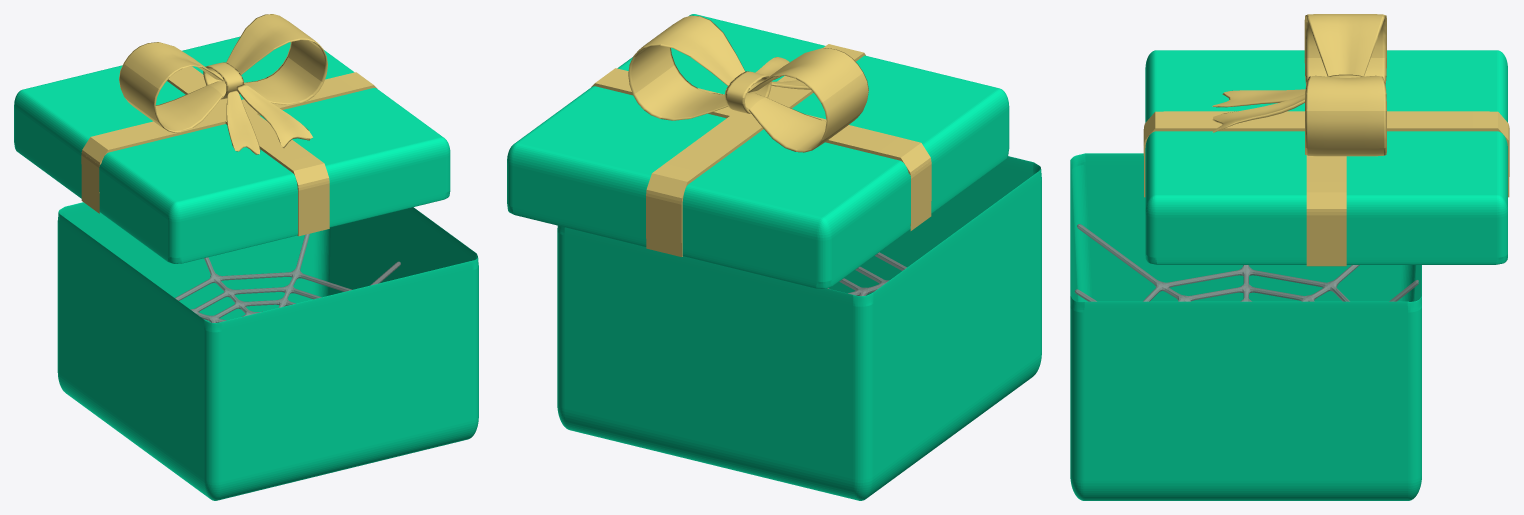
3 views of the same model, side by side, from view 1: azimuth 30°, elevation 25°; view 2: azimuth 150°, elevation 25°; view 3: azimuth 270°, elevation 25° (orthographic). The views are drawn at different scales.
Visible parts, largest first — view 1: box2, boxTop, bowTop, Plane, Plane001, spiderweb; view 2: box2, boxTop, bowTop, Plane, Plane001, spiderweb; view 3: box2, boxTop, bowTop, Plane, Plane001, spiderweb.
Part boxes in pixels (x1,y1,x2,y2): box2: [57, 202, 478, 500]; boxTop: [14, 36, 450, 263]; bowTop: [119, 14, 327, 154]; Plane: [167, 66, 329, 236]; Plane001: [81, 72, 377, 213]; spiderweb: [175, 233, 400, 322]; box2: [557, 156, 1041, 500]; boxTop: [507, 14, 1009, 288]; bowTop: [628, 15, 868, 152]; Plane: [646, 44, 865, 256]; Plane001: [591, 68, 931, 230]; spiderweb: [827, 252, 906, 296]; box2: [1070, 153, 1421, 500]; boxTop: [1145, 50, 1507, 264]; bowTop: [1212, 14, 1386, 156]; Plane: [1143, 111, 1509, 197]; Plane001: [1306, 155, 1346, 266]; spiderweb: [1074, 224, 1418, 301].
Bounding box in the file's own units: 0.7434 × 0.8589 × 0.8926.
